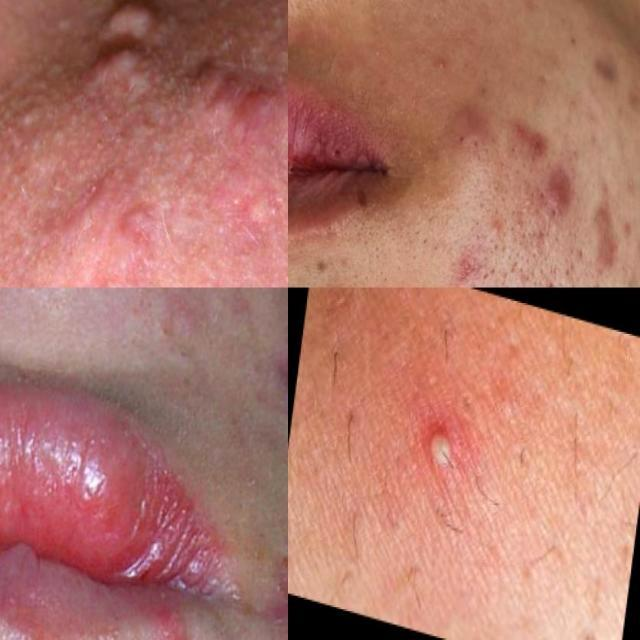Pimples: (129, 288, 206, 370), (408, 396, 476, 488), (76, 36, 154, 98), (502, 111, 559, 182), (92, 0, 166, 54), (579, 33, 631, 105), (446, 83, 498, 150), (587, 194, 626, 278), (536, 154, 584, 222), (444, 236, 493, 288), (208, 84, 242, 131), (187, 44, 216, 88), (487, 207, 512, 250), (428, 38, 450, 82), (127, 84, 132, 89)
